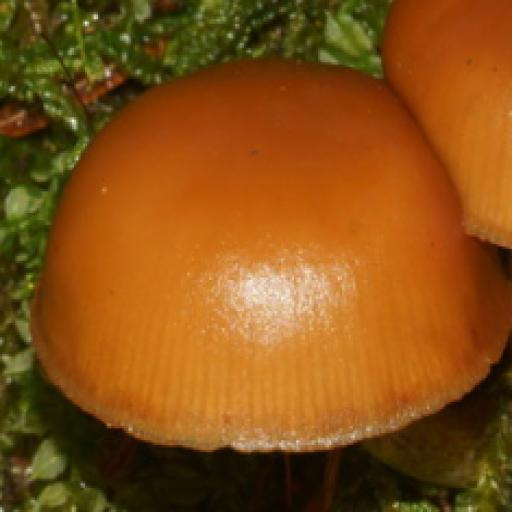mushroom: (28, 51, 512, 463)
